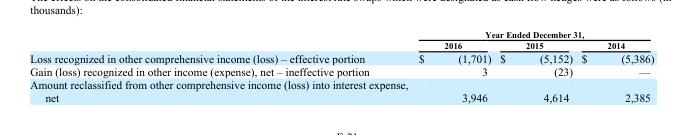table: (29, 28, 653, 103)
table column: (29, 28, 412, 103), (412, 28, 494, 103), (494, 28, 576, 103), (576, 28, 653, 103)
table column header: (29, 28, 653, 50)
table row: (29, 77, 653, 103), (29, 50, 653, 64), (29, 64, 653, 77), (29, 28, 653, 39), (29, 39, 653, 50)
table spanning cell: (412, 28, 653, 39)
